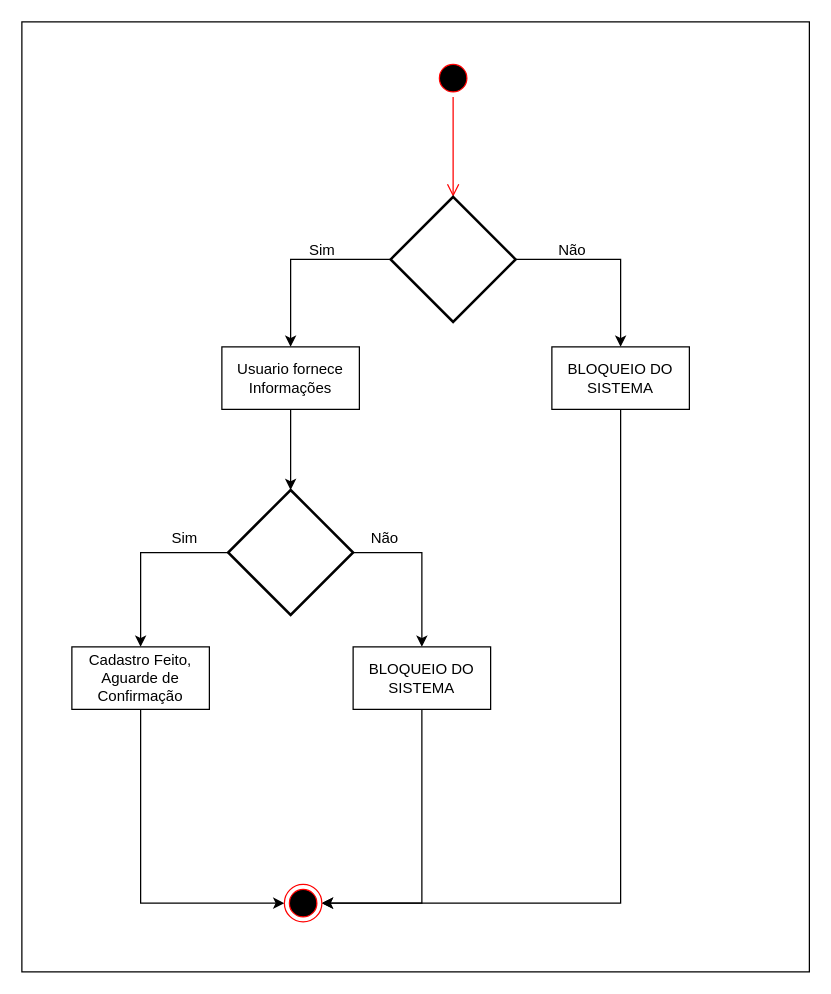
Some shapes in this 831 by 994 pixel diagram are drawn without their labels. The shapes that lost their labels are listed below. From the top down, each one's centre as x and y in pixels, then its label:
[452,258]: USUARIO QUER REGISTRAR
[290,552]: INFORMAÇÕES VALIDAS?
